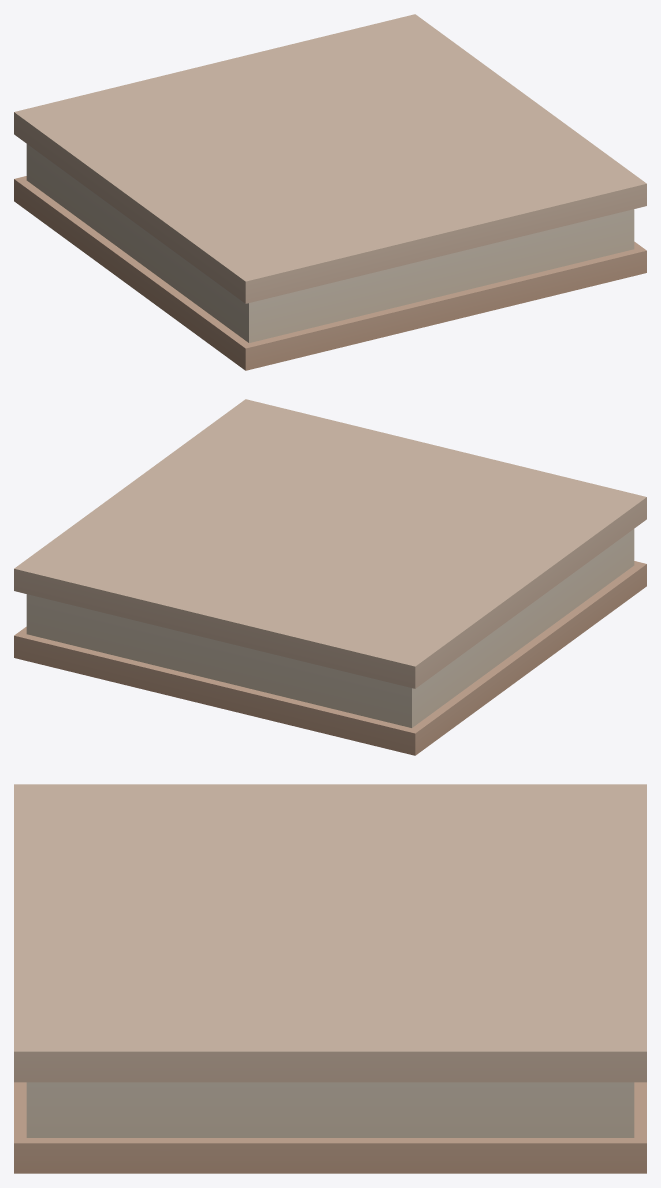
File: roof-flat-detail-b.glb
3 views of the same model, one above another, from view 1: azimuth 30°, elevation 25°; view 2: azimuth 150°, elevation 25°; view 3: azimuth 270°, elevation 25° (orthographic). The views are drawn at different scales.
Visible parts, largest first — view 1: roof-flat-detail-b; view 2: roof-flat-detail-b; view 3: roof-flat-detail-b.
Part boxes in pixels (x1,y1,x2,y2): roof-flat-detail-b: (14,14,646,370); roof-flat-detail-b: (14,399,646,755); roof-flat-detail-b: (14,784,646,1173).
Size of the model in its own units: 1 by 0.2125 by 1.
